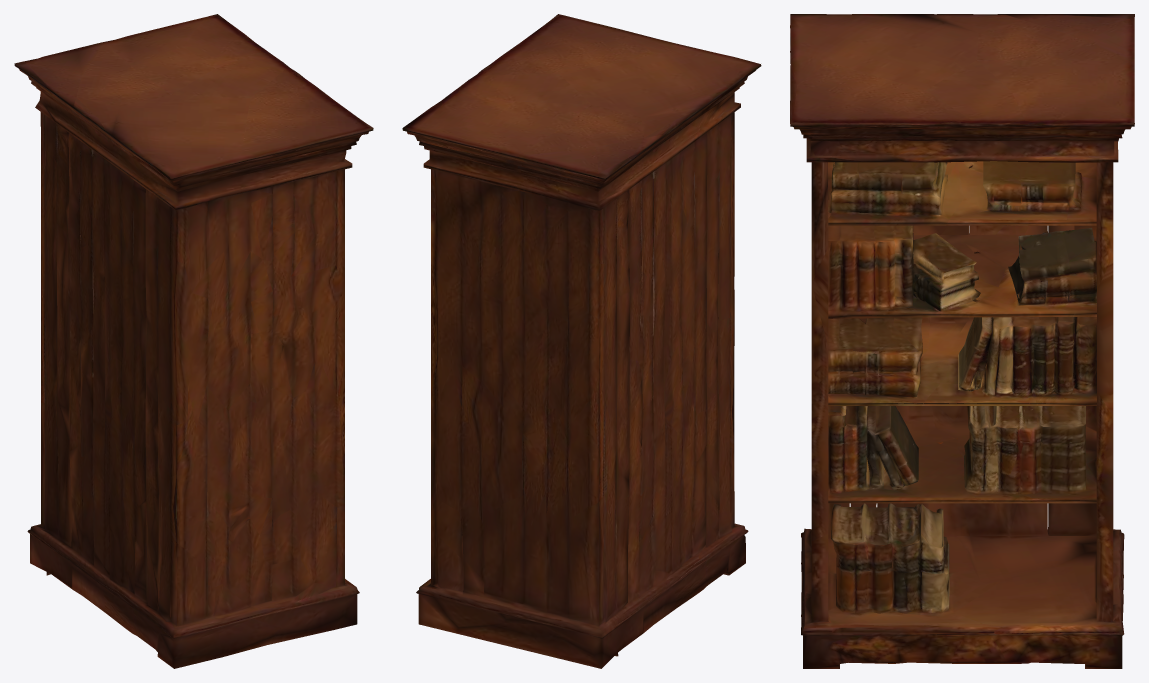
The model's file is estanteria.glb.
3 renders of one model, left to right at view 1: azimuth 30°, elevation 25°; view 2: azimuth 150°, elevation 25°; view 3: azimuth 270°, elevation 25°, orthographic. The views are drawn at different scales.
Parts seen in each view (by area): view 1: tripo_node_442d555b-c754-4810-acb3-af9182be66a3; view 2: tripo_node_442d555b-c754-4810-acb3-af9182be66a3; view 3: tripo_node_442d555b-c754-4810-acb3-af9182be66a3.
Part boxes in pixels (x1,y1,x2,y2): tripo_node_442d555b-c754-4810-acb3-af9182be66a3: (14, 14, 373, 668); tripo_node_442d555b-c754-4810-acb3-af9182be66a3: (402, 14, 761, 668); tripo_node_442d555b-c754-4810-acb3-af9182be66a3: (790, 14, 1134, 668).
Size of the model in its own units: 0.4273 by 1 by 0.5674.
1 material, 1 textured.
